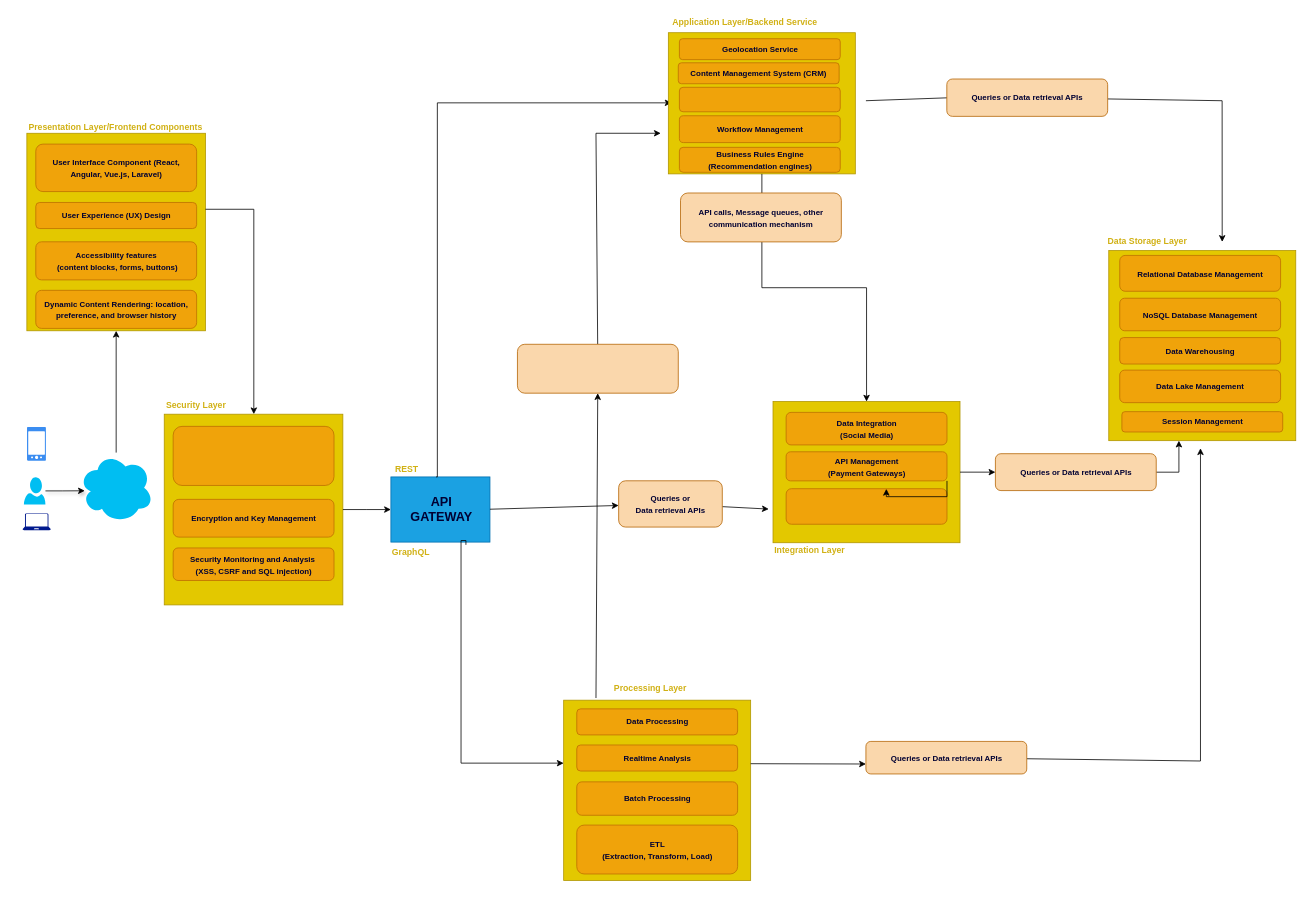
The diagram is 1310 pixels wide and 920 high, and some of its shapes have lost their labels. Each missing label, with the centre of its shape:
"Authentication and Authorization Service (0Auth2, JWT)" belongs at point (253, 455).
"Caching Mechanism (CDN)" belongs at point (759, 99).
"Internet" belongs at point (116, 487).
"Message Brokering" belongs at point (866, 506).
"Passing data or events through synchronous or asynchronous interfaces" belongs at point (597, 368).
